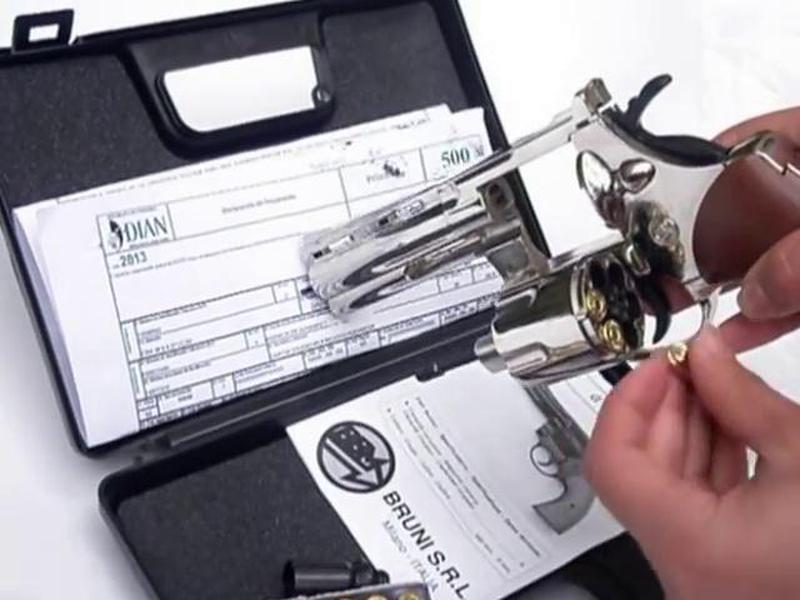Revolver: (277, 72, 800, 388)
